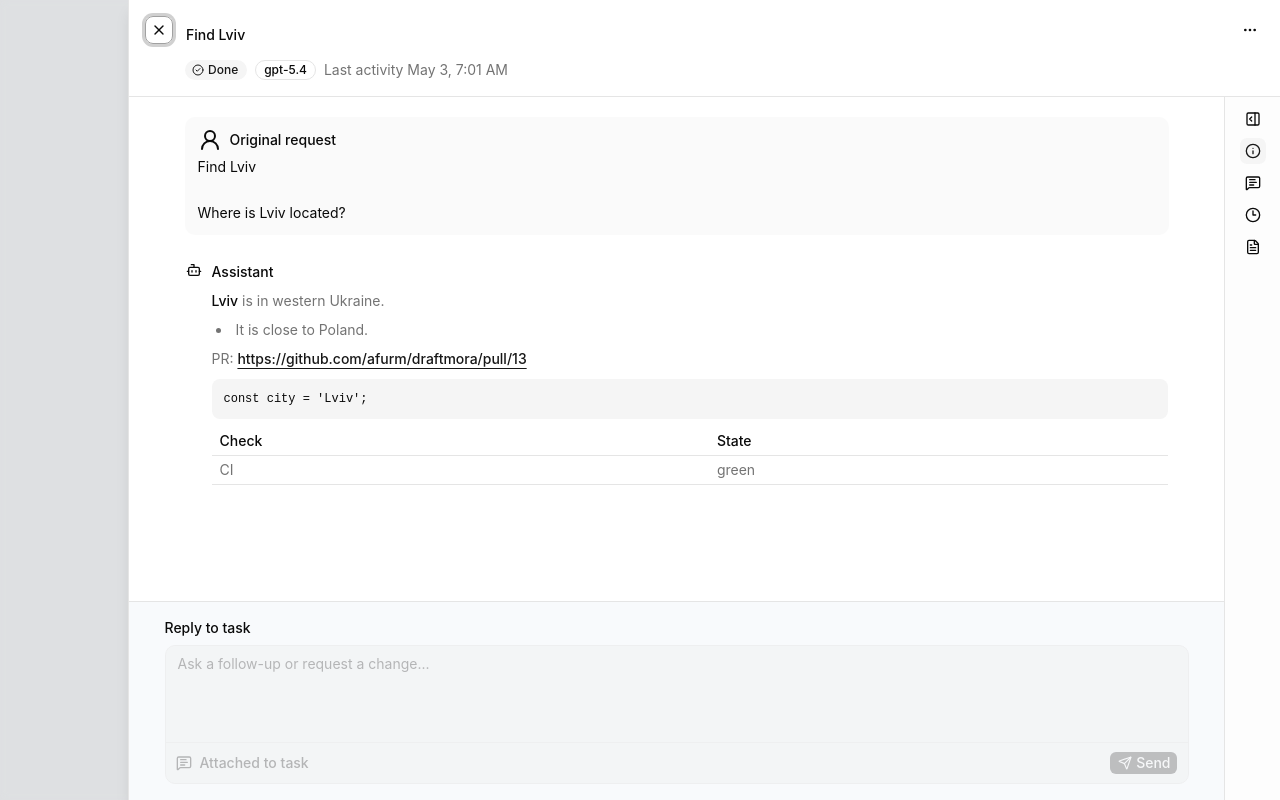
TaskModal › shows completed AI work as a locked task conversation
The width and height of the screenshot is (1280, 800).
Expected: the text "Lviv" is shown, x1=212 y1=292 x2=238 y2=308
Expected: the list item "It is close to Poland." is shown, x1=236 y1=321 x2=368 y2=338
What coordinates should you click on to do the following:
click the button named "Expand task details"
I would click on:
 (1252, 119)
Its box is x1=1238 y1=105 x2=1266 y2=133.
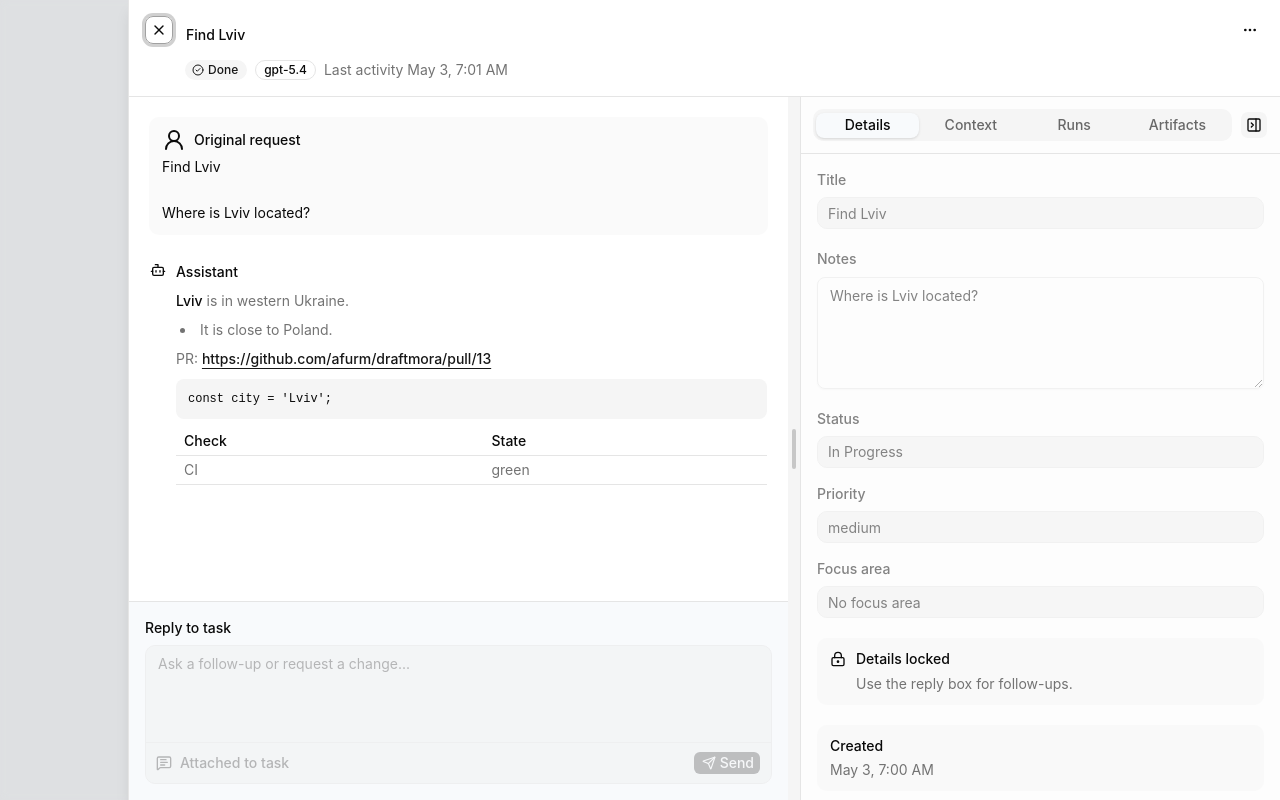
Result: the text "Notes" is shown at x1=817 y1=250 x2=856 y2=267
Result: the text "Details locked" is shown at x1=856 y1=649 x2=950 y2=669
Result: the field with id "task-detail-title" is disabled at x1=817 y1=197 x2=1264 y2=229
